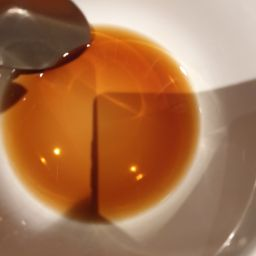Balsamic vinegar: (4, 6, 217, 234), (71, 21, 206, 219), (87, 31, 204, 230), (18, 68, 183, 197), (29, 104, 176, 226), (8, 74, 128, 221)
